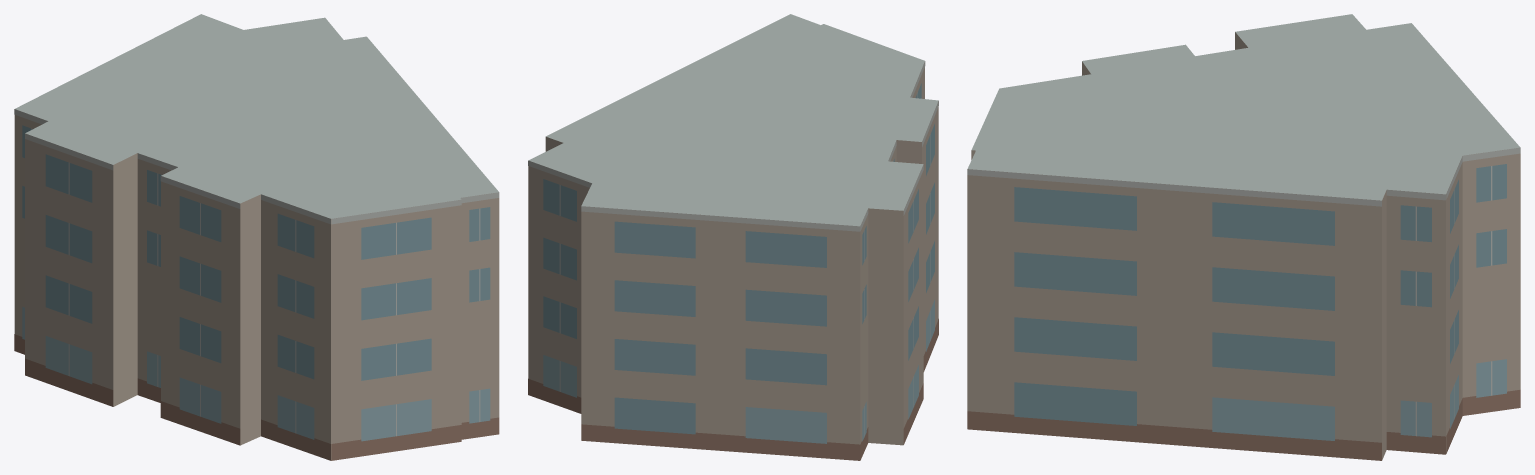
The model's file is survey-upis-32666268.glb.
3 renders of one model, left to right at view 1: azimuth 30°, elevation 25°; view 2: azimuth 150°, elevation 25°; view 3: azimuth 270°, elevation 25°, orthographic. The views are drawn at different scales.
Visible parts, largest first — view 1: survey-upis-32666268.tmp; view 2: survey-upis-32666268.tmp; view 3: survey-upis-32666268.tmp.
Boxes of the visible parts, bbox=[...] form: survey-upis-32666268.tmp: bbox=[14, 14, 499, 460]; survey-upis-32666268.tmp: bbox=[528, 14, 938, 460]; survey-upis-32666268.tmp: bbox=[967, 14, 1520, 460].
Bounding box in the file's own units: 16.23 × 10.55 × 20.33.
